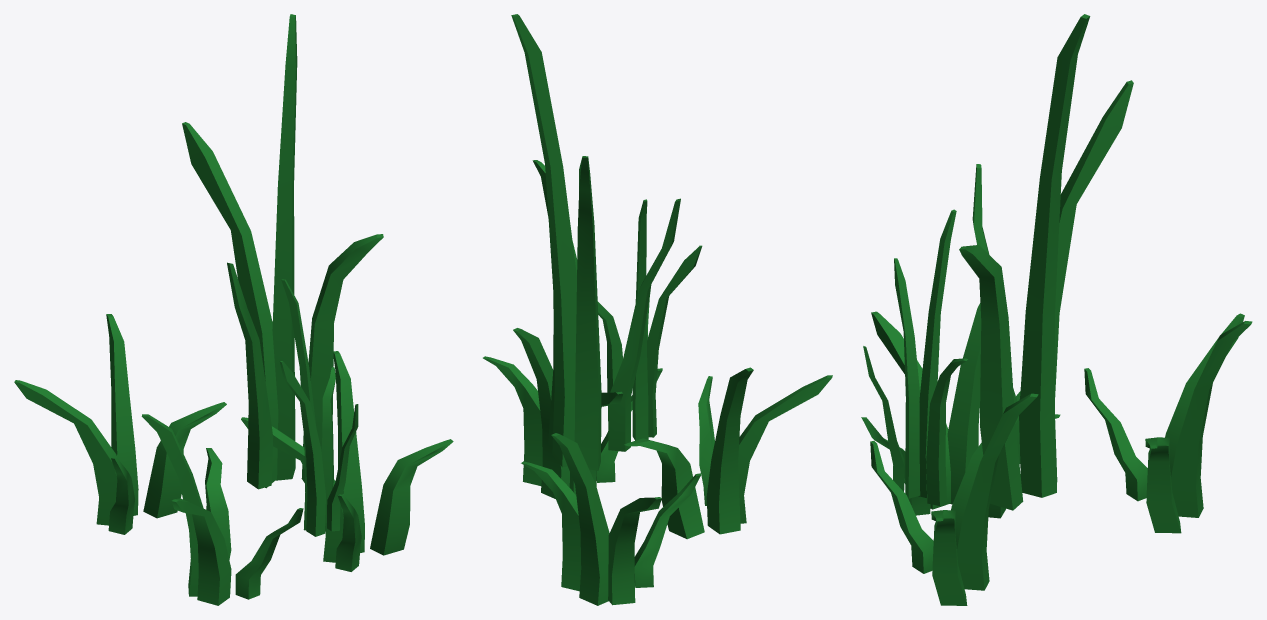
File: Grass4.fbx
3 renders of one model, left to right at view 1: azimuth 30°, elevation 25°; view 2: azimuth 150°, elevation 25°; view 3: azimuth 270°, elevation 25°, orthographic. The views are drawn at different scales.
Visible parts, largest first — view 1: GrassLight1; view 2: GrassLight1; view 3: GrassLight1.
Part boxes in pixels (left/top/right/bottom): GrassLight1: left=14, top=14, right=453, bottom=605; GrassLight1: left=483, top=14, right=832, bottom=605; GrassLight1: left=861, top=14, right=1252, bottom=605.
Size of the model in its own units: 0.9424 by 1.46 by 0.9158.
